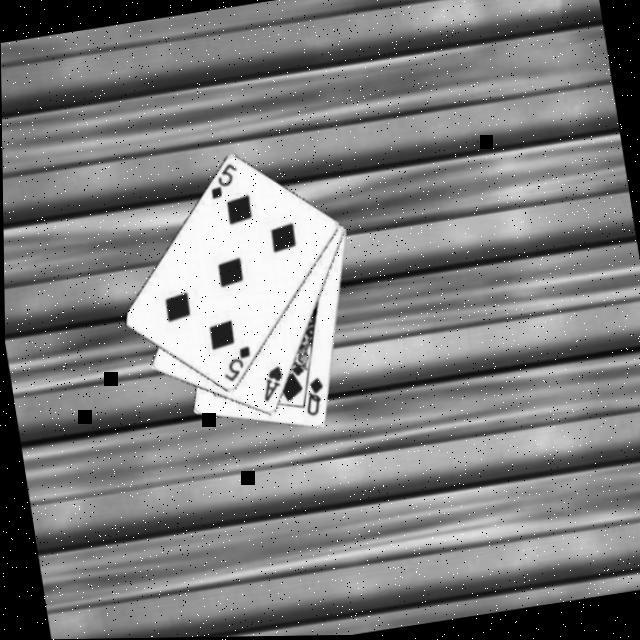5D: (217, 341, 257, 384), (204, 158, 244, 201)
AH: (257, 362, 289, 403)
QD: (299, 372, 331, 418)
